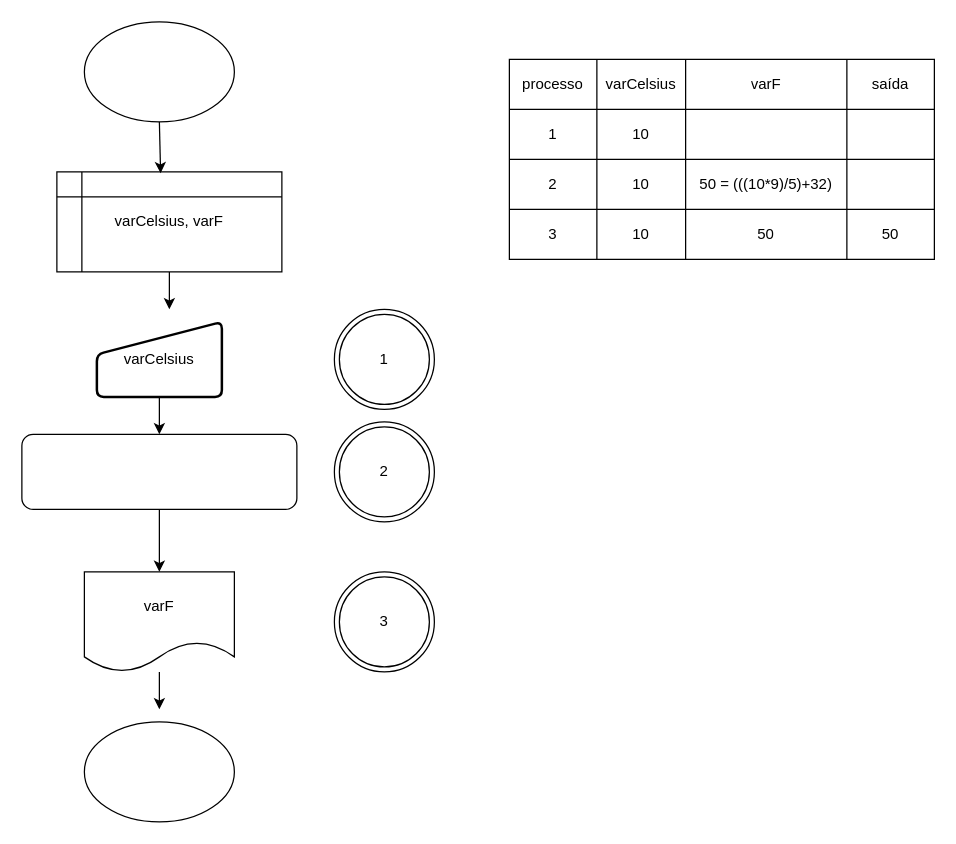
Image size: 956x844. Some labels were removed from this diagram. Each missing label, with the centre of its shape:
fim: (158,771)
início: (158,71)
varF = (((varCelsius * 9 ) / 5 ) + 32): (159,471)
